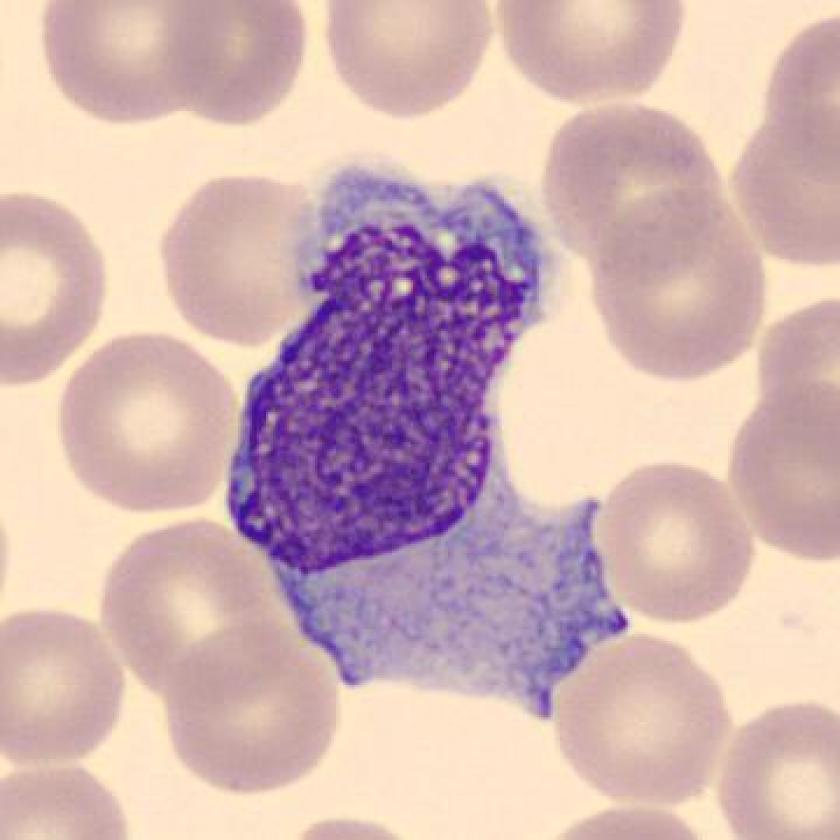monocyte: (209, 140, 659, 737)
